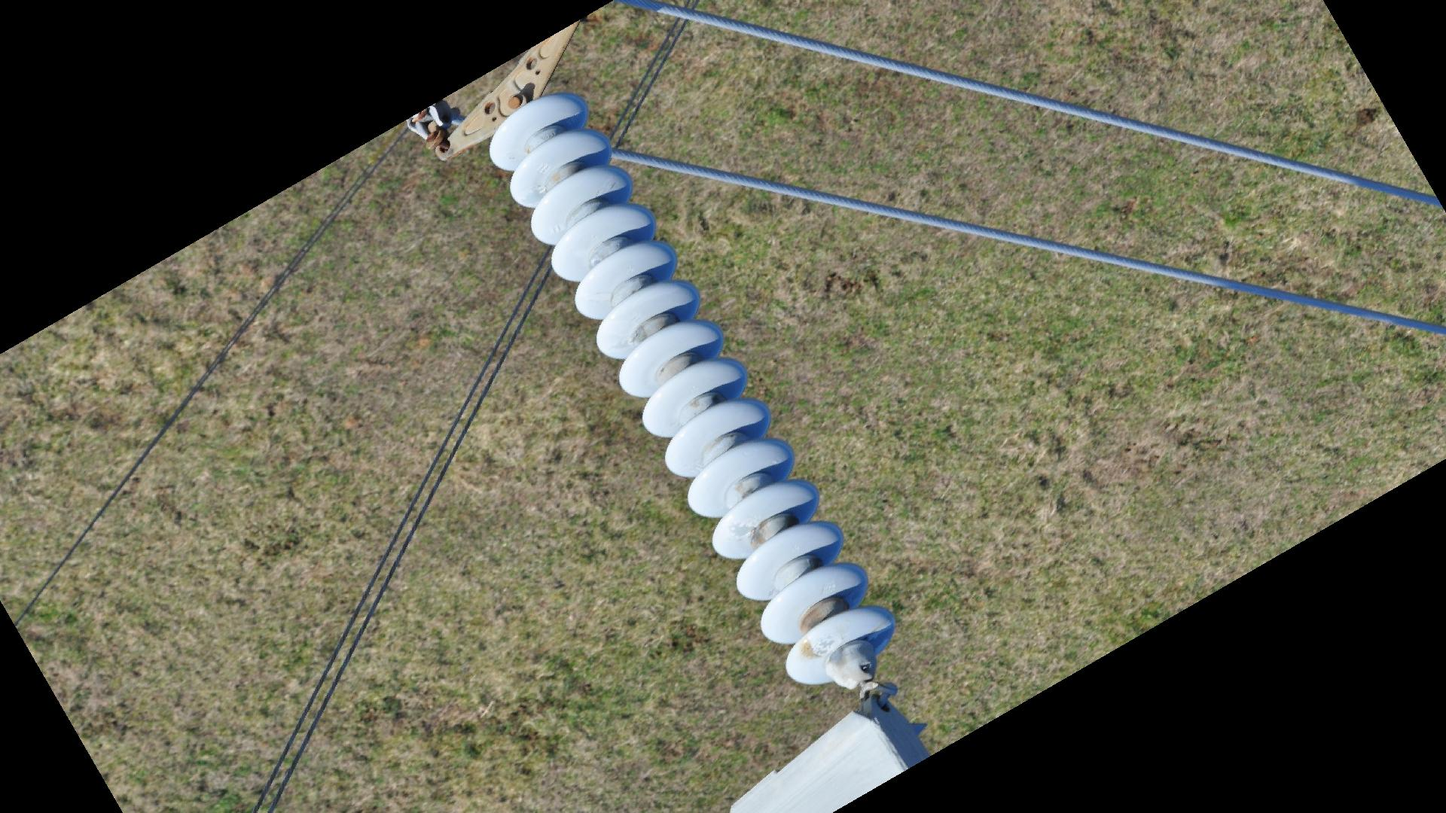insulator: (481, 88, 898, 696)
insulator_flashover: (806, 628, 844, 658), (728, 516, 758, 540)
